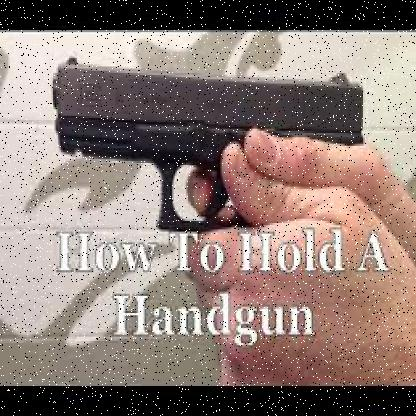pistol: (51, 49, 366, 242)
